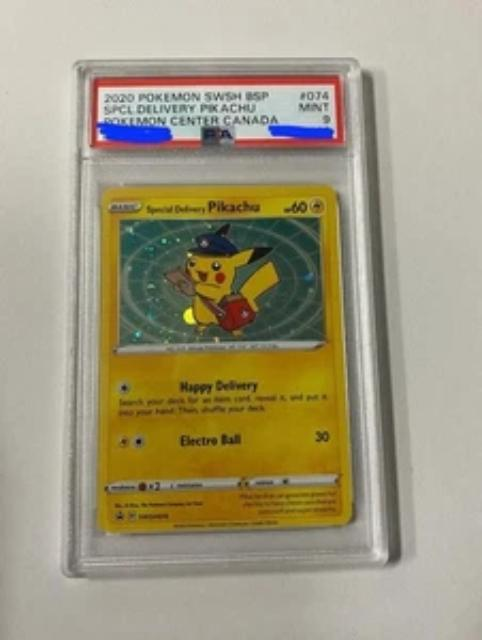Card: (91, 181, 358, 537)
Name: (141, 197, 266, 219)
